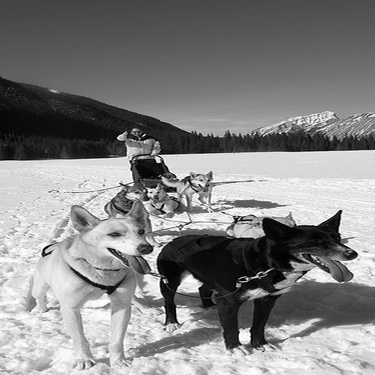dog: (145, 202, 362, 358), (16, 196, 165, 367), (210, 209, 306, 269), (155, 168, 222, 214), (98, 174, 154, 227), (137, 178, 188, 224)
